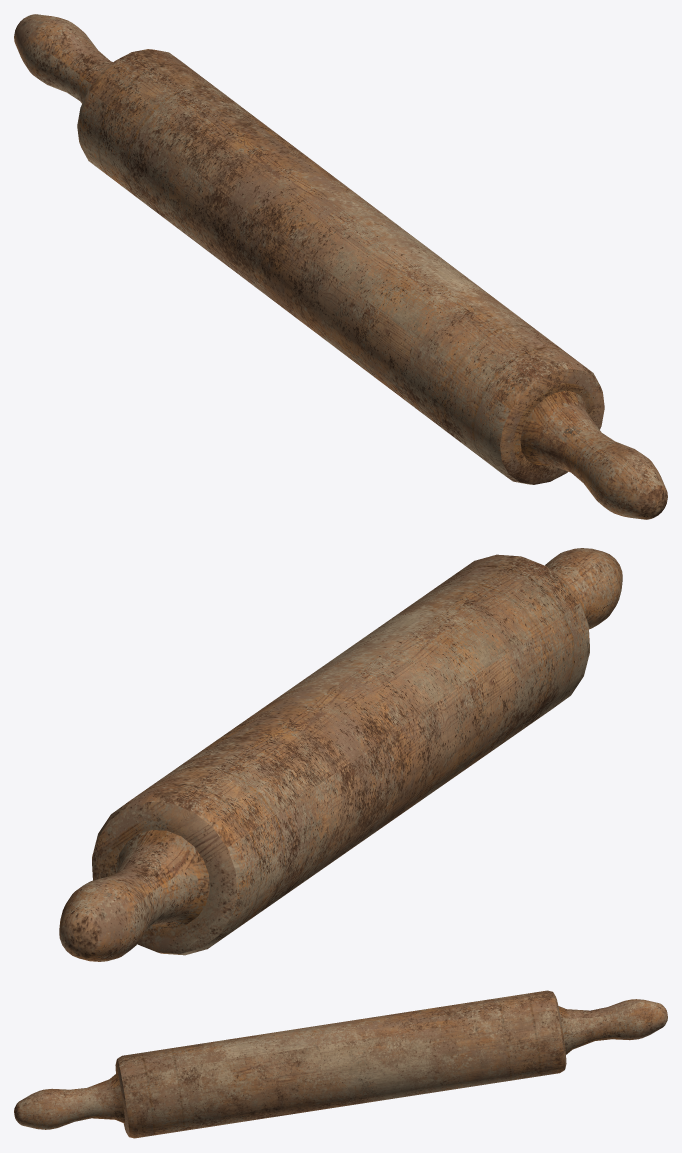
File: wooden_rolling_pin.glb
The picture shows the model from 3 angles, top to bottom: view 1: azimuth 30°, elevation 25°; view 2: azimuth 150°, elevation 25°; view 3: azimuth 270°, elevation 25°; orthographic projection. The views are drawn at different scales.
Parts seen in each view (by area): view 1: Roller_low; view 2: Roller_low; view 3: Roller_low.
Part boxes in pixels (box(x1,y1,x2,y2)): Roller_low: box(14, 14, 667, 519); Roller_low: box(59, 548, 622, 961); Roller_low: box(14, 990, 667, 1138).
Bounding box in the file's own units: 127 × 130 × 637.
1 material, 1 textured.
